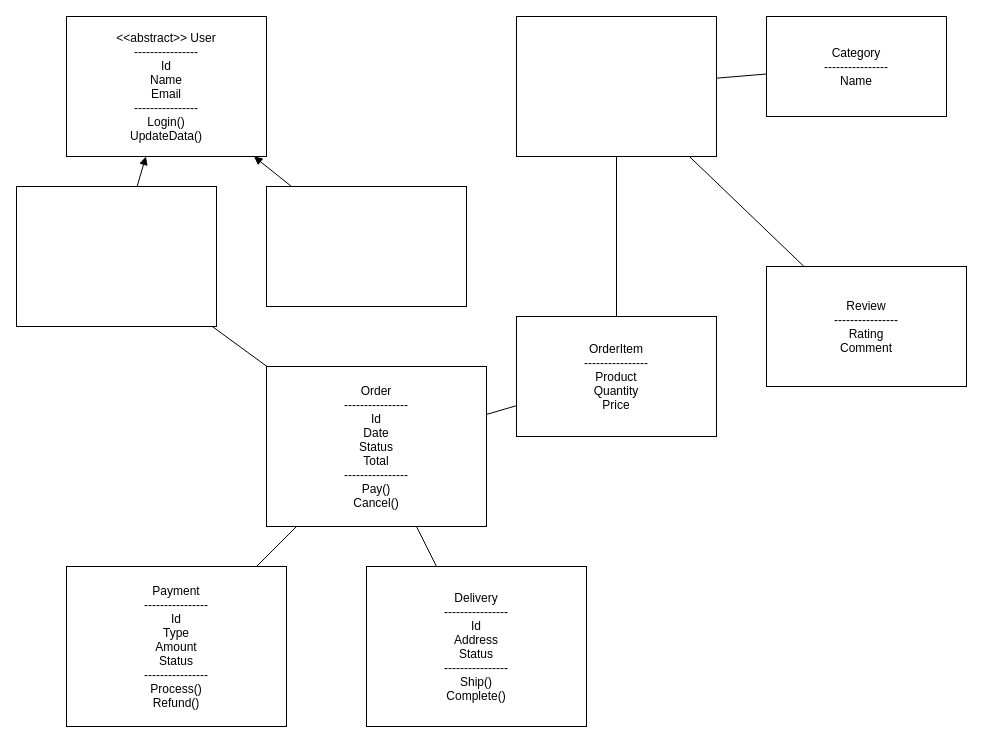
Some shapes in this 983 by 743 pixel diagram are drawn without their labels. Each missing label, with the box of its shape:
Admin ---------------- ---------------- LogAction(): (266, 186, 466, 306)
Customer ---------------- Orders LoyaltyPoints ---------------- AddPoints(): (16, 186, 216, 326)
Product ---------------- Id Name Price Stock ----------------: (516, 16, 716, 156)
